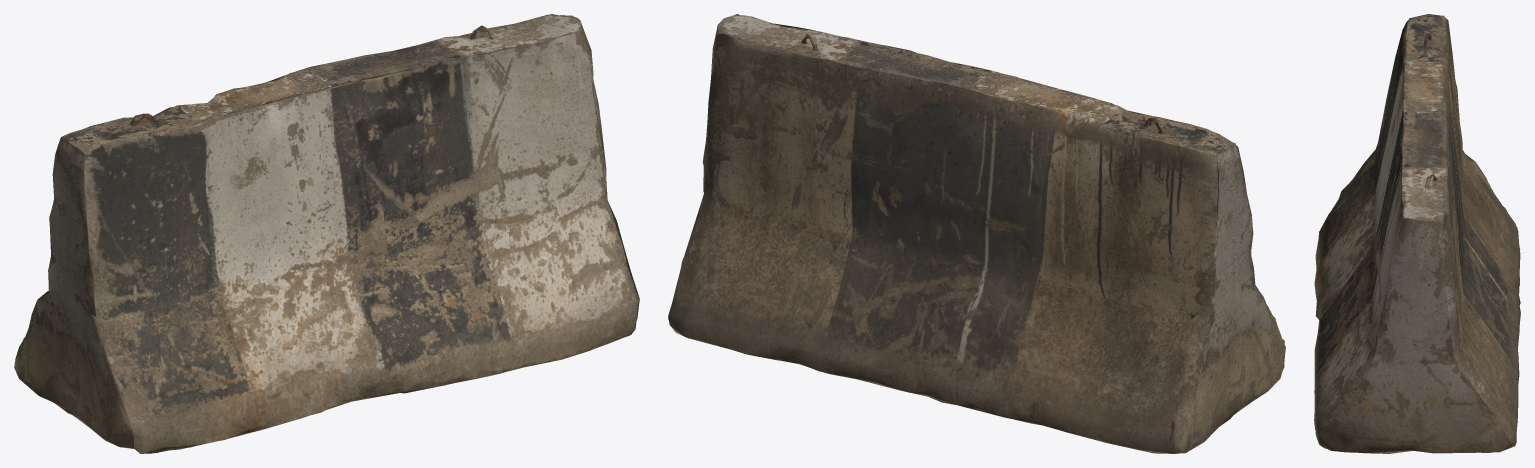
File: concrete_road_barrier_lod1.gltf
3 views of the same model, side by side, from view 1: azimuth 30°, elevation 25°; view 2: azimuth 150°, elevation 25°; view 3: azimuth 270°, elevation 25° (orthographic). The views are drawn at different scales.
Visible parts, largest first — view 1: concrete_road_barrier_lod1; view 2: concrete_road_barrier_lod1; view 3: concrete_road_barrier_lod1.
Part boxes in pixels (x1,y1,x2,y2): concrete_road_barrier_lod1: [14, 14, 639, 453]; concrete_road_barrier_lod1: [668, 14, 1285, 453]; concrete_road_barrier_lod1: [1314, 14, 1520, 453].
Bounding box in the file's own units: 1.54 × 0.8326 × 0.6344.
1 material, 1 textured.
